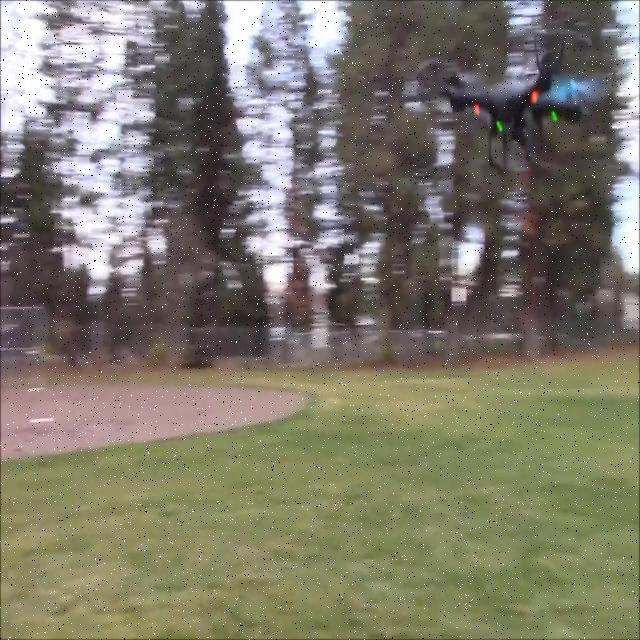UAV: (416, 35, 614, 176)
